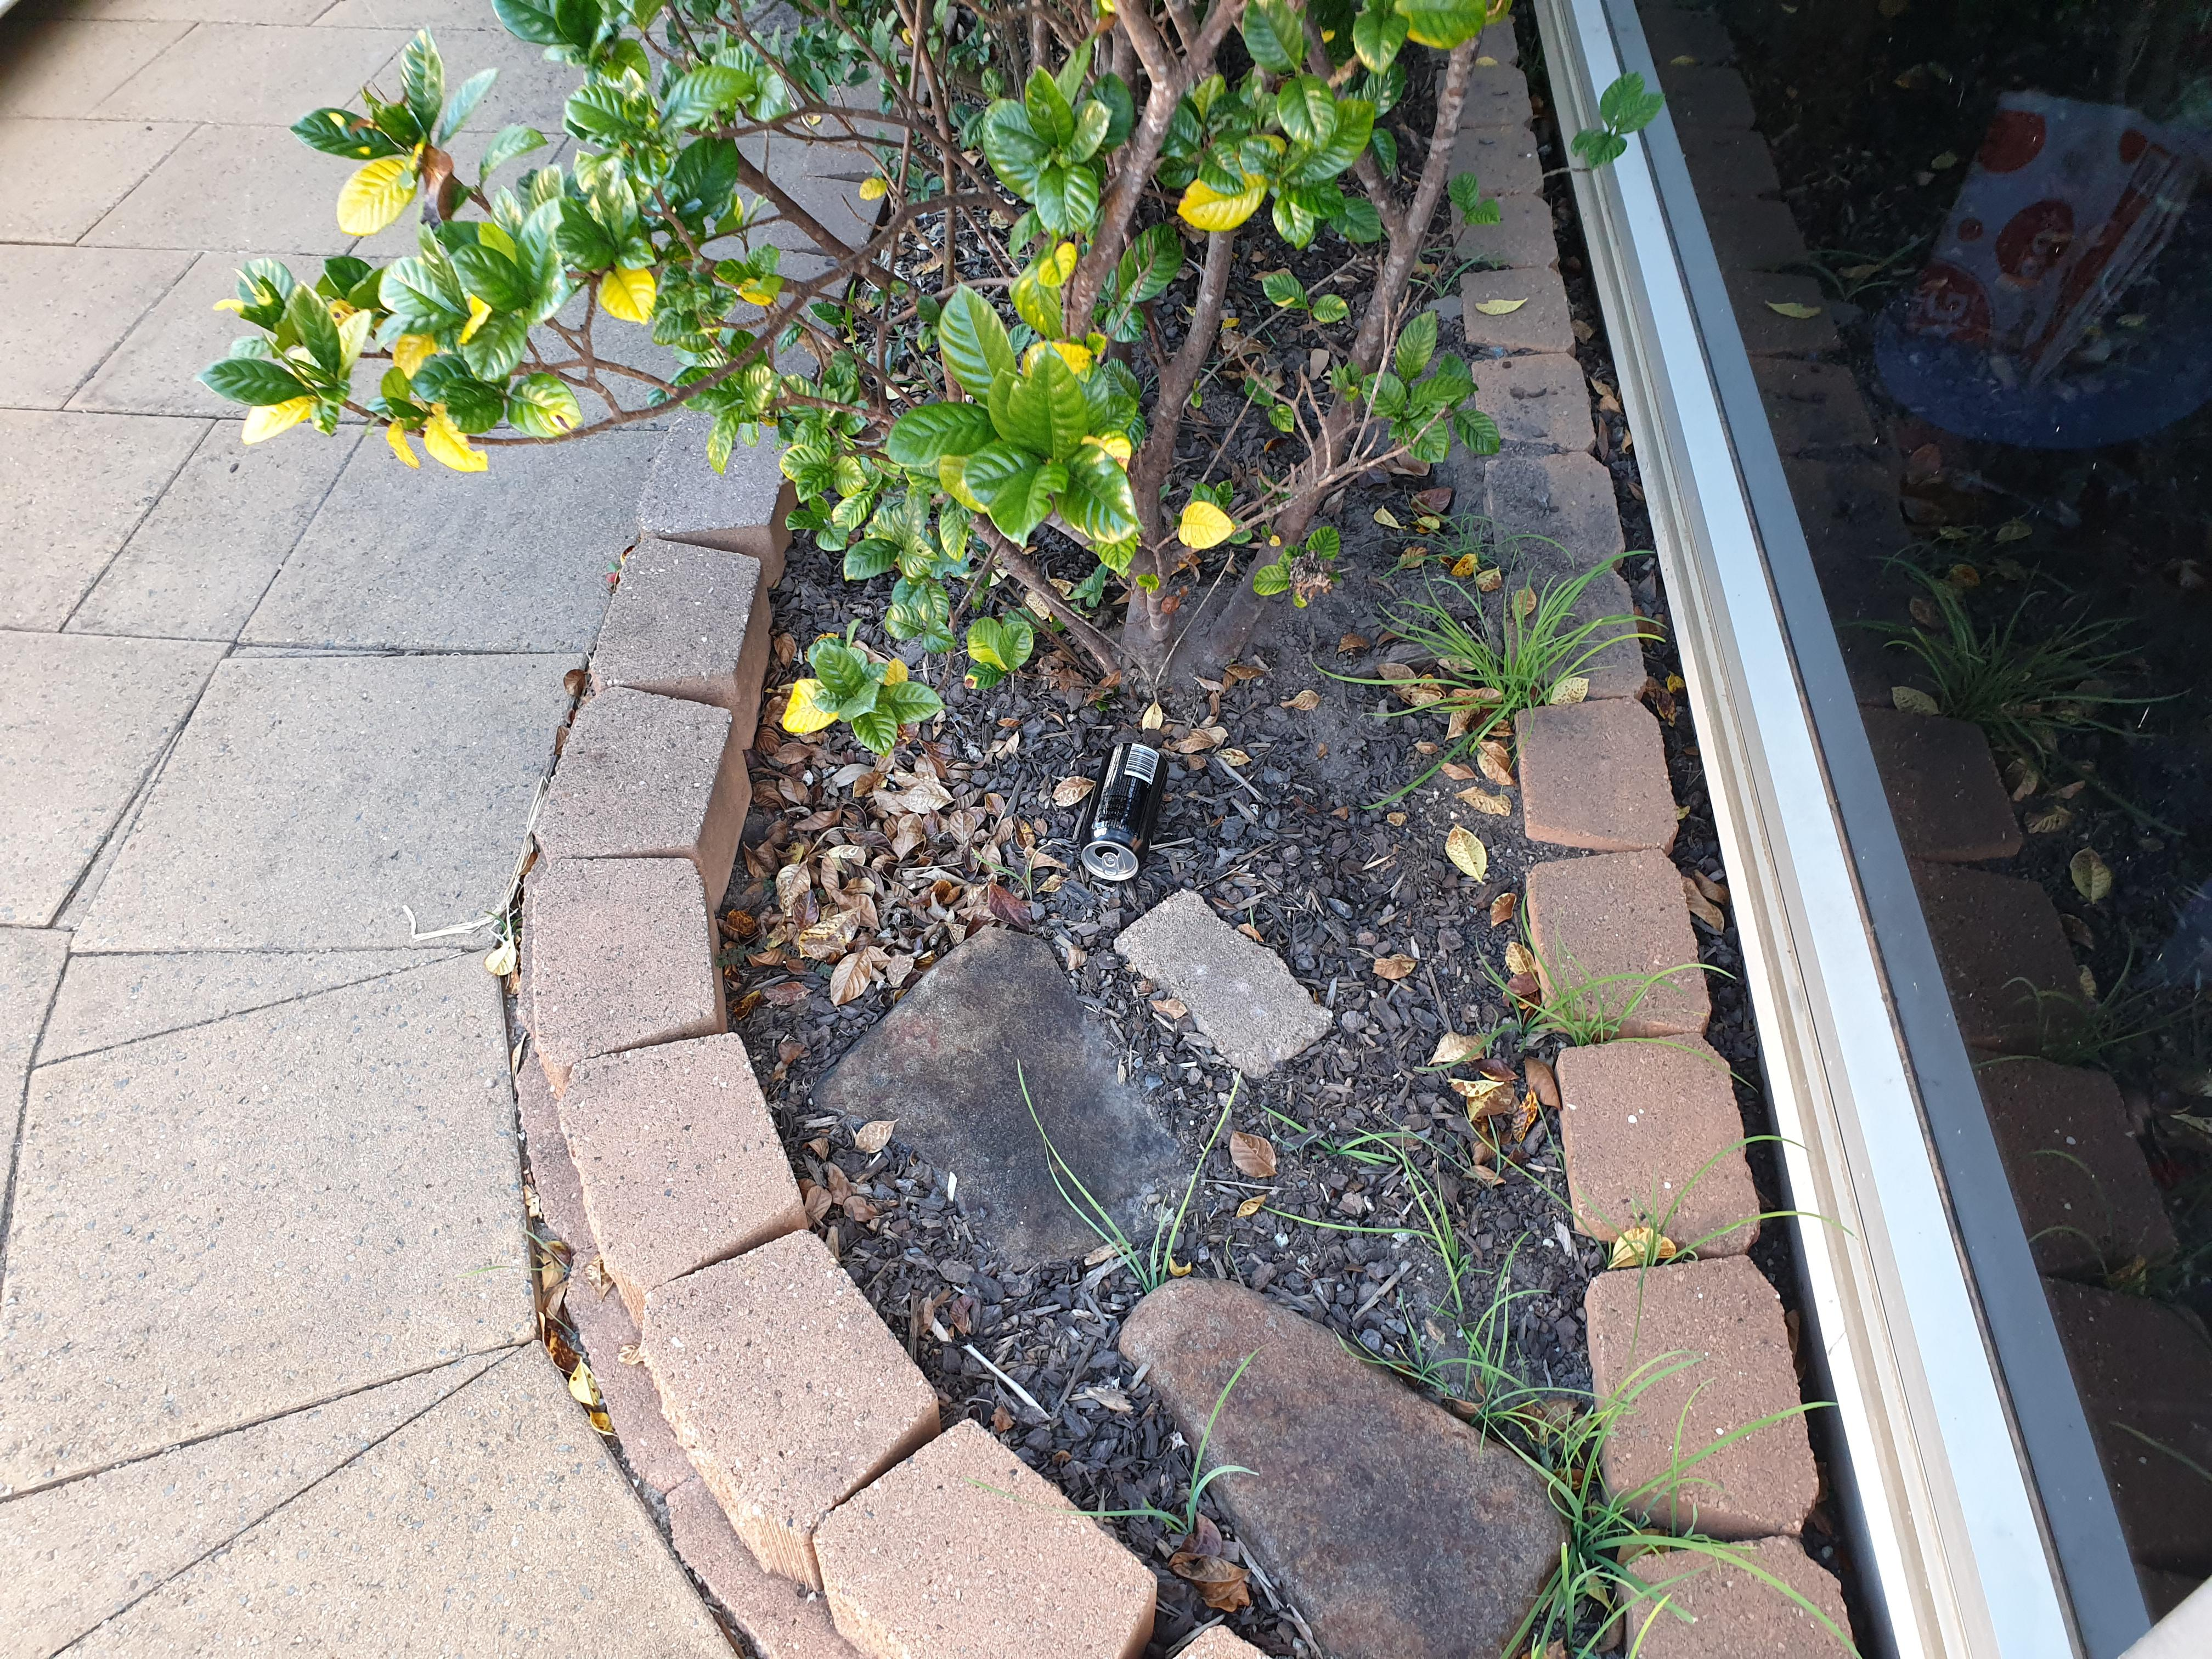Plastic Bottle: (1082, 742, 1169, 882)
